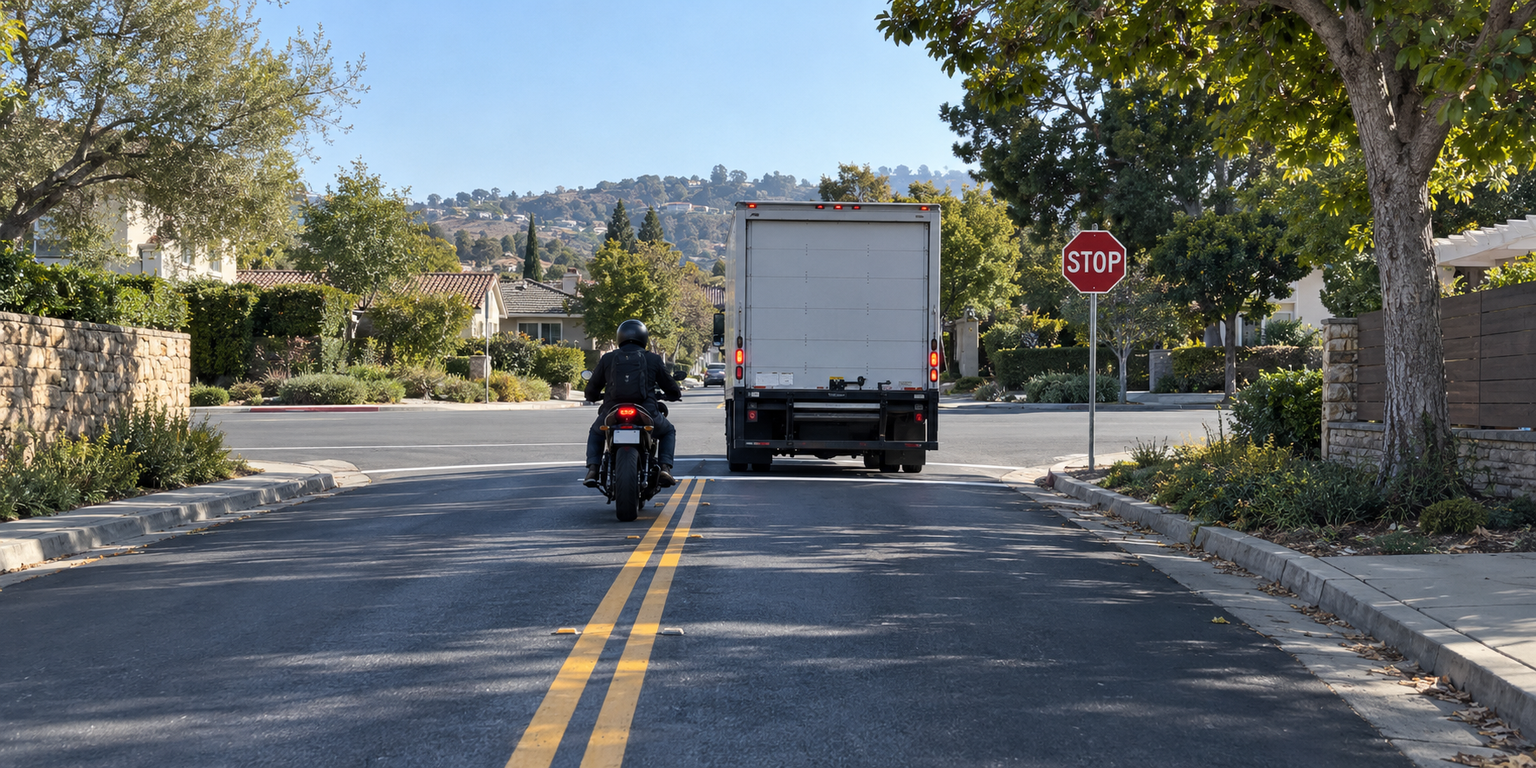motorcycle: (594, 414, 678, 524)
person: (584, 320, 677, 492)
stop_sign: (1059, 230, 1130, 297)
truck: (720, 203, 942, 468)
